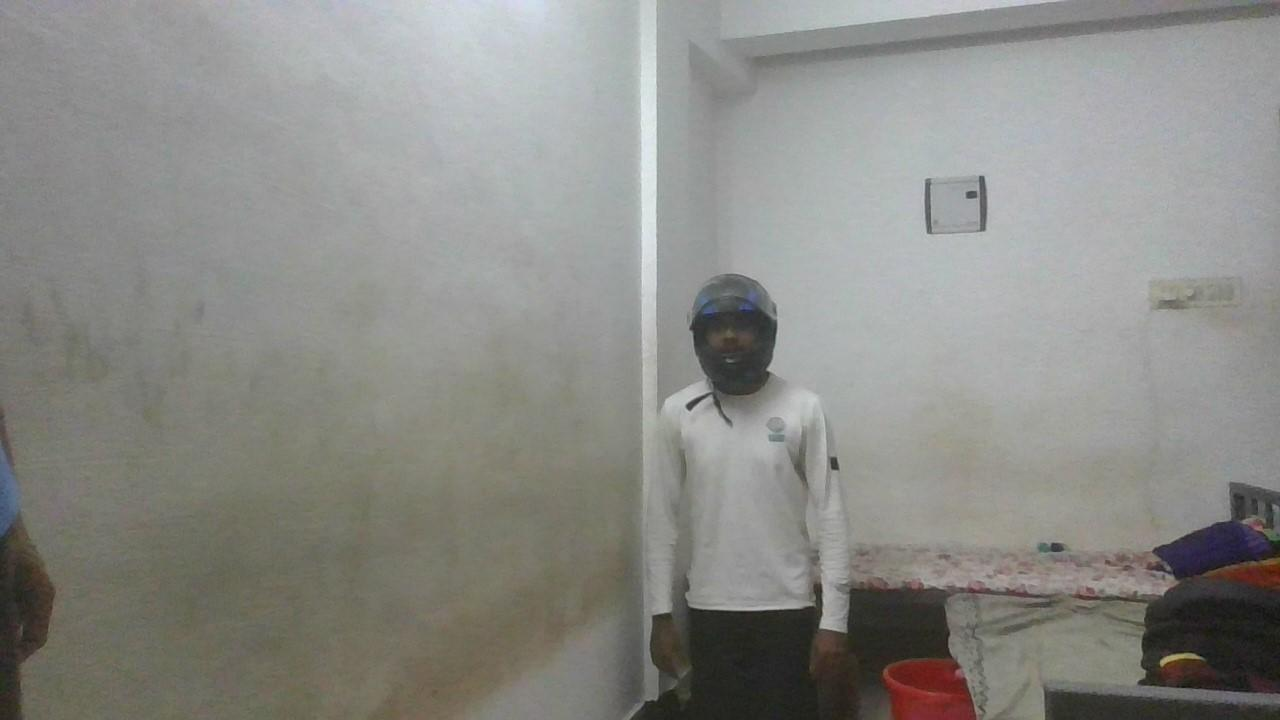helmet: (687, 271, 780, 398)
